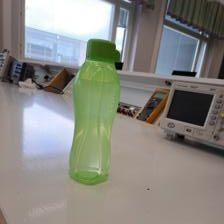bottle: (66, 36, 123, 184)
